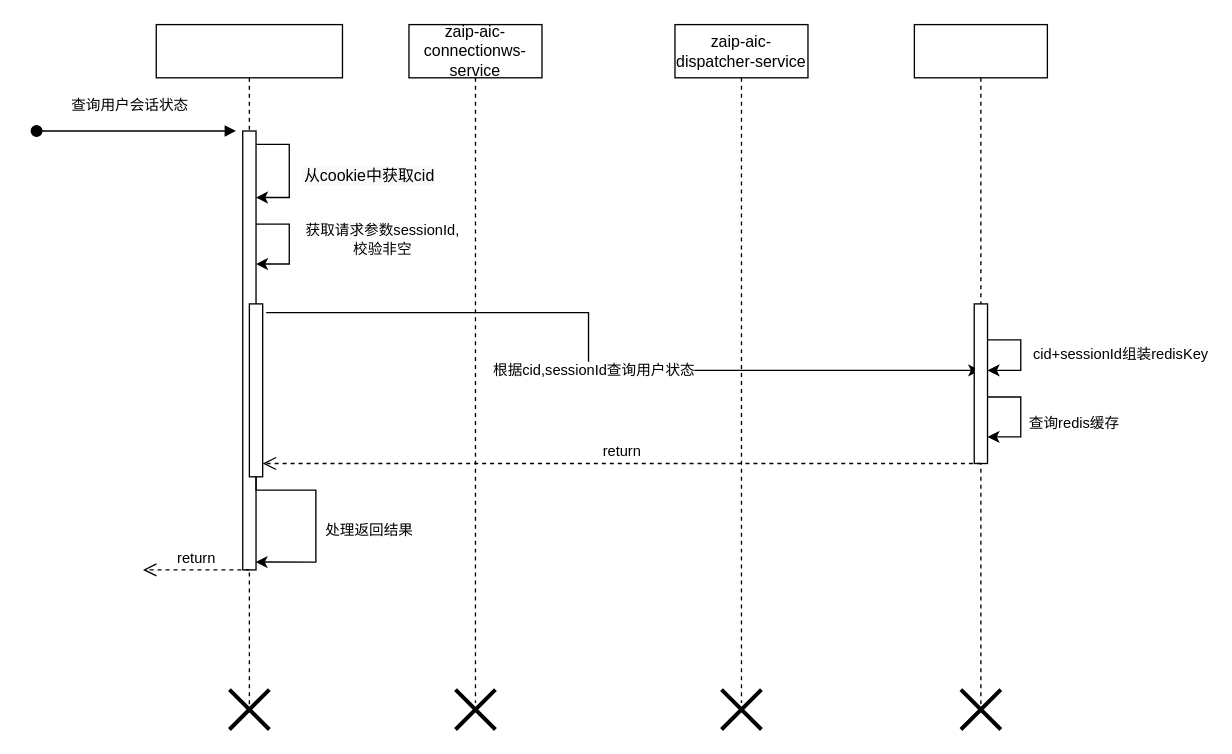
Image size: 1232x754. Some labels were removed from this diagram. The shapes that lost their labels are listed below. From the top down, each one's box as (x1, y1, x2, y2) in pixels, then its label:
(155, 23, 342, 716): zaip-aic-web-service
(913, 23, 1047, 716): zaip-aic-session-service
